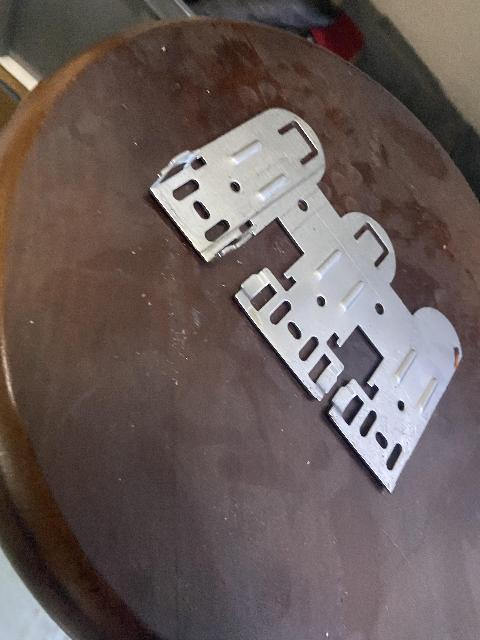Metal: (143, 94, 475, 500)
